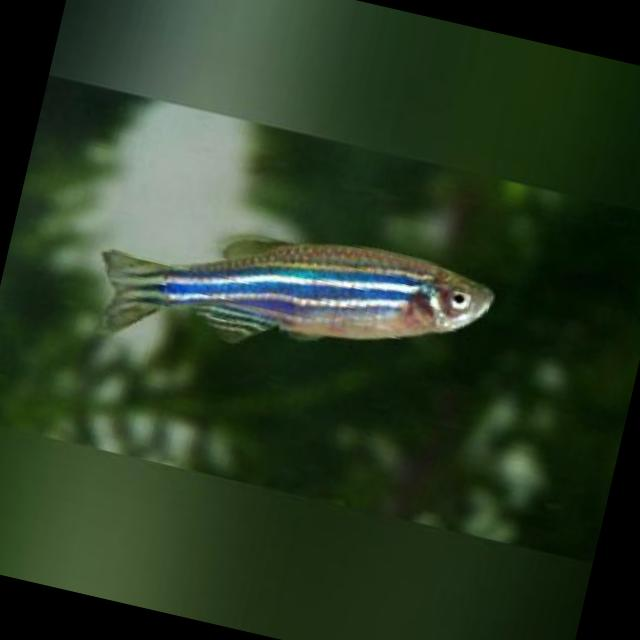ZebraFish: (86, 178, 503, 409)
